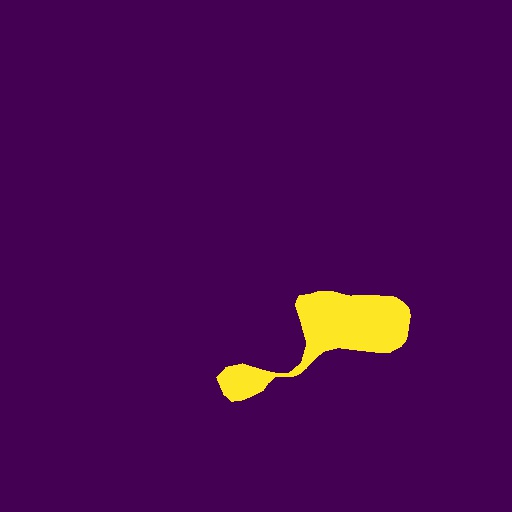Gliomia_tumour: (216, 291, 411, 402)
